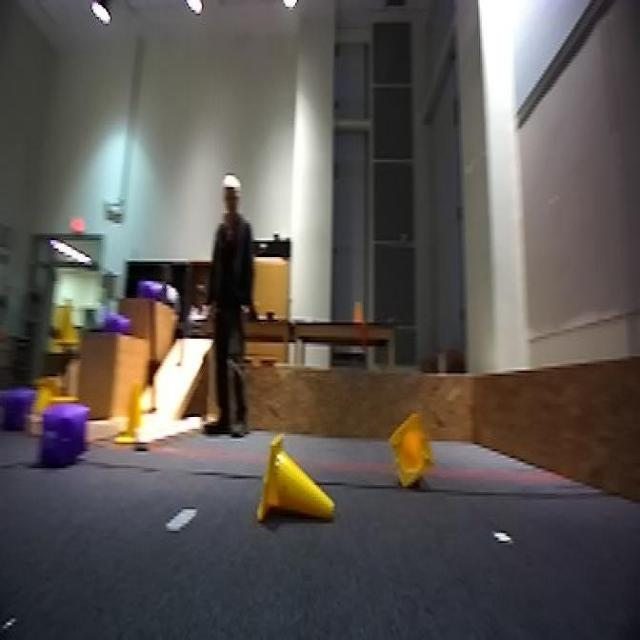frc_cone: (259, 438, 331, 518), (387, 407, 434, 490), (49, 286, 84, 356), (118, 380, 144, 442)
frc_cube: (43, 404, 87, 472), (0, 380, 39, 436), (95, 305, 134, 335), (139, 274, 171, 306)
